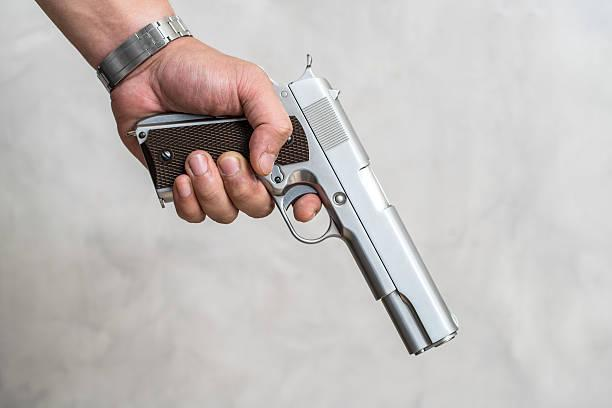weapon: (123, 62, 465, 361)
